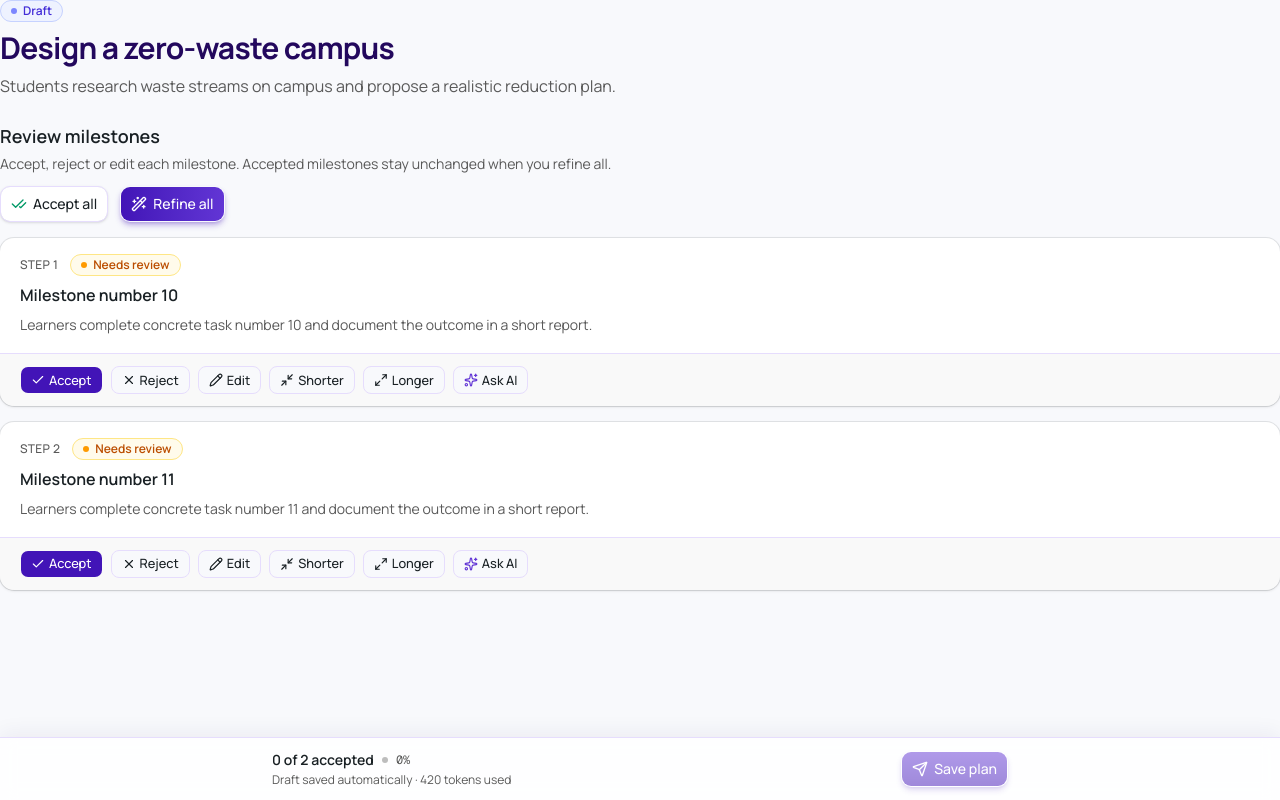
Scenario: PlanEditor › shows the server error and keeps the current state
This screenshot has width=1280, height=800.
Click the button "Refine all" at (172, 204), box [120,186,224,222]
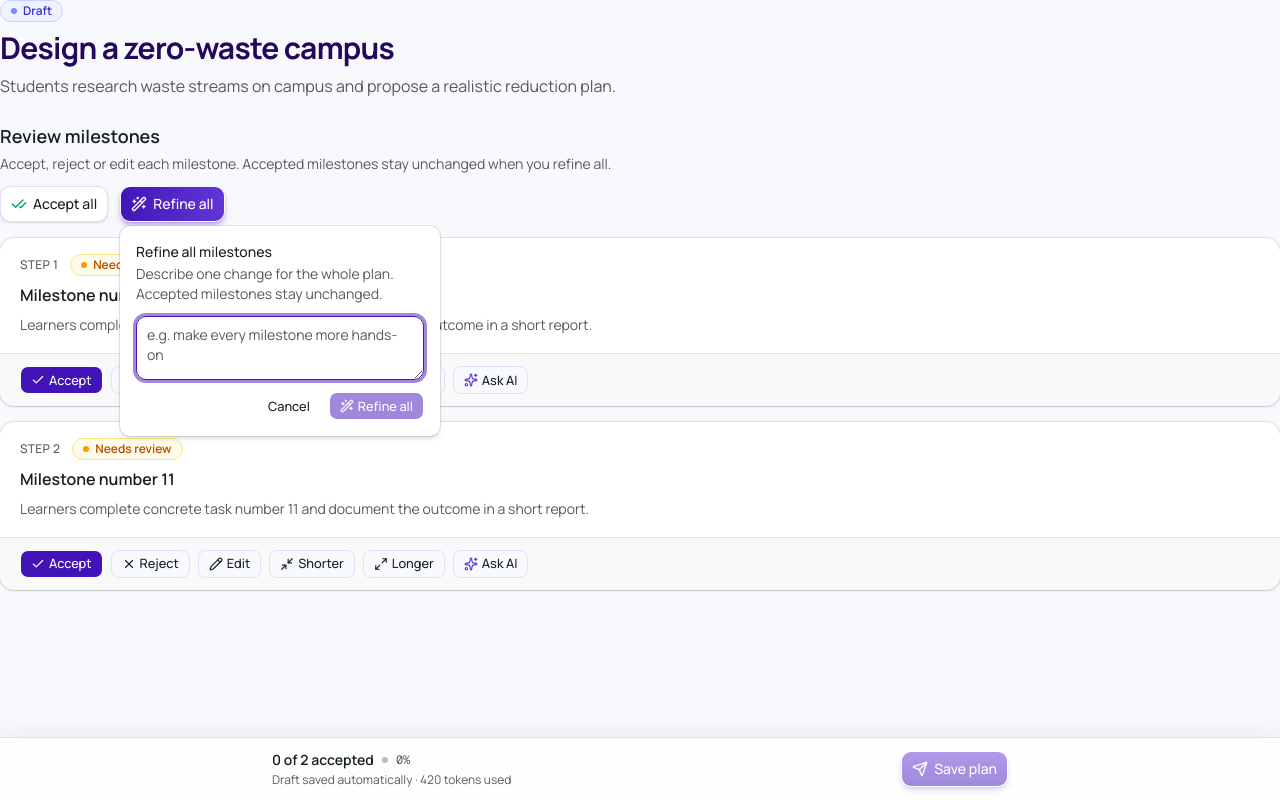
Type "Make it hands-on" into the text box named "Refine all milestones" at (280, 348), box [136,316,424,380]
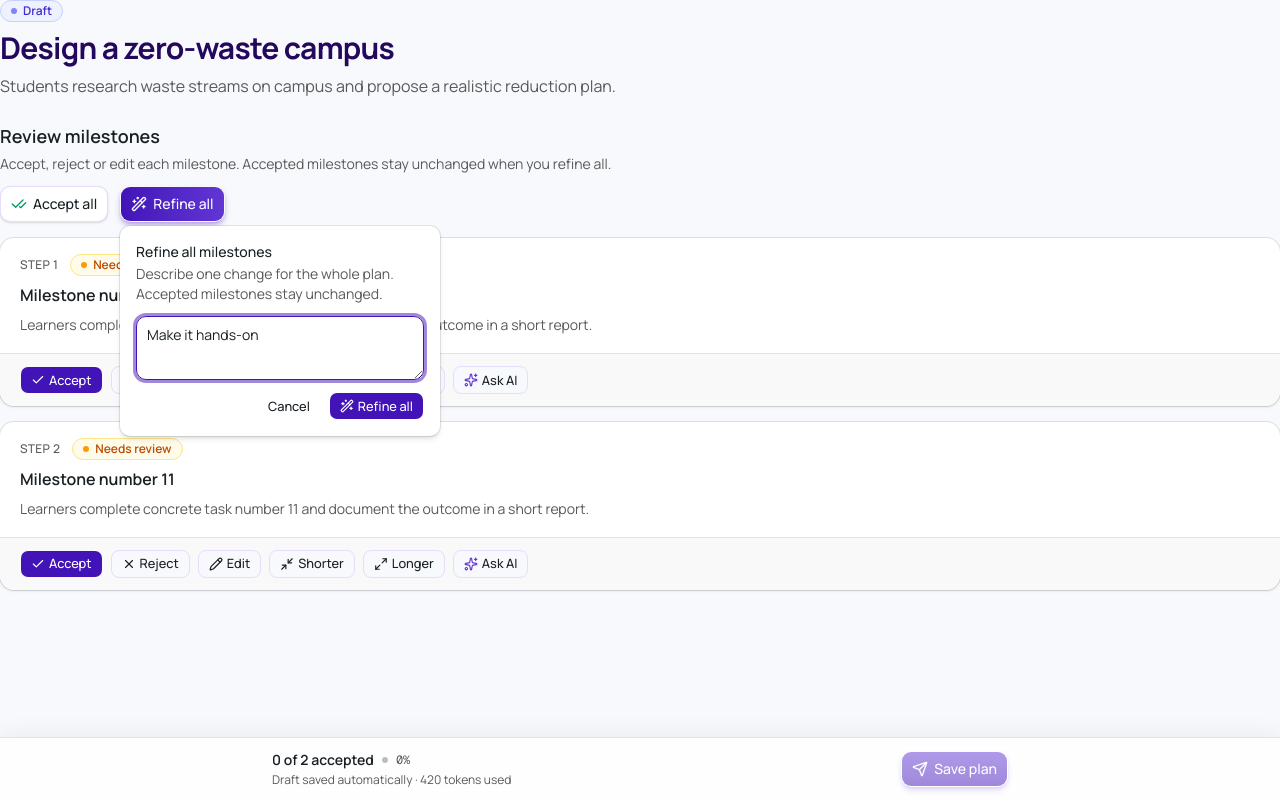
Click the button "Refine all" below "Refine all milestones" at (376, 406), box [329,392,424,420]
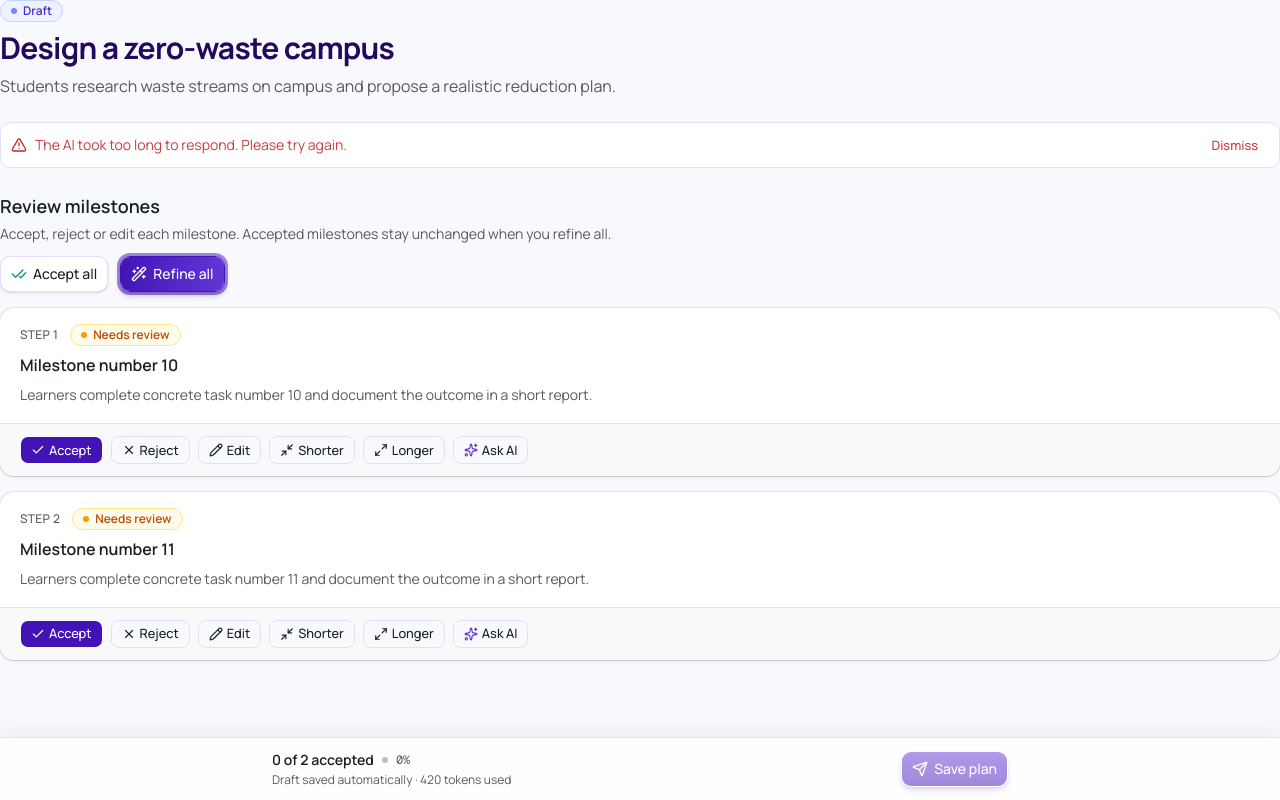
Now the text "The AI took too long to respond. Please try again." is shown, box [35,135,347,155]
